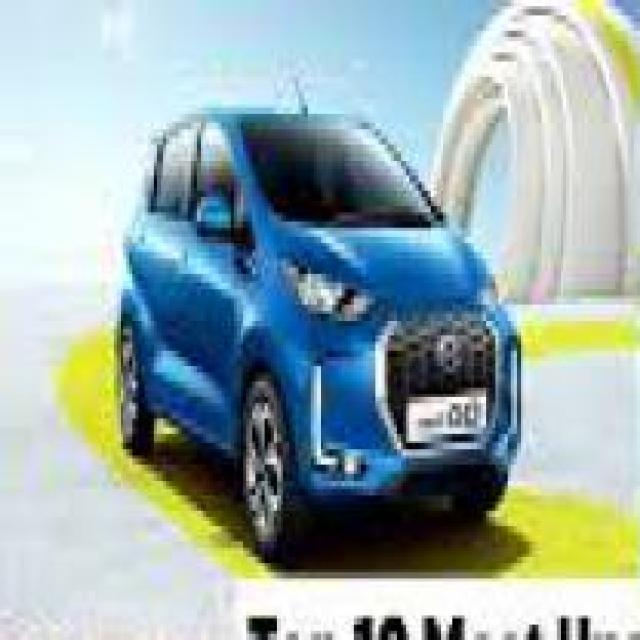car: (83, 58, 532, 544)
